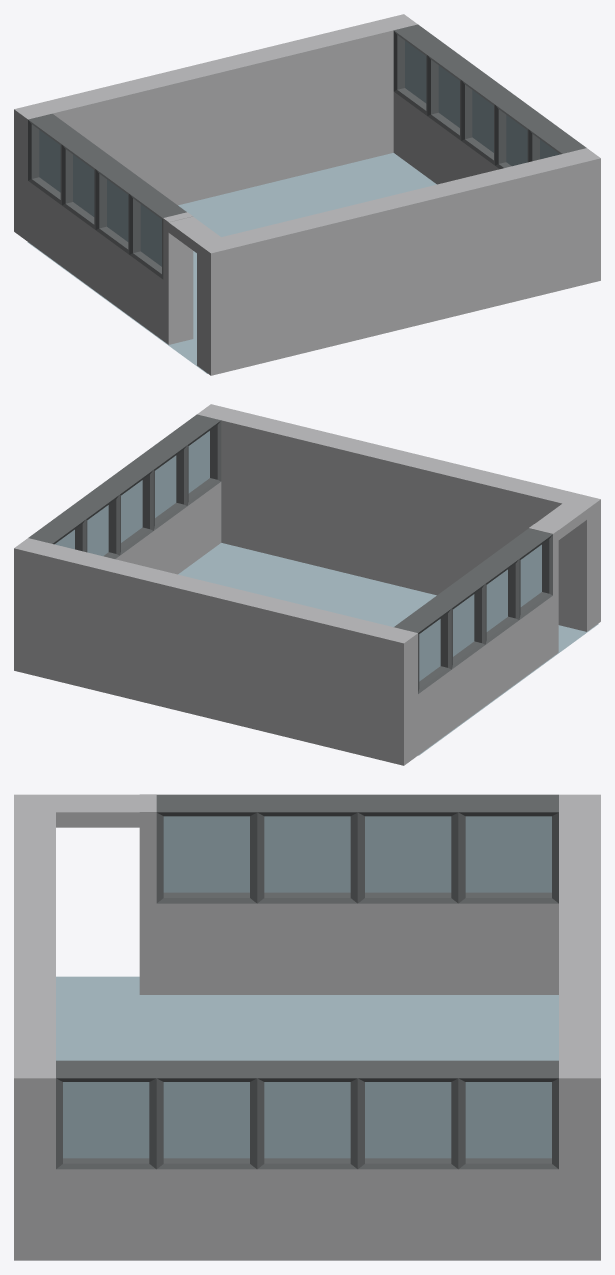
The model's file is Classroom 1.fbx.
3 views of the same model, one above another, from view 1: azimuth 30°, elevation 25°; view 2: azimuth 150°, elevation 25°; view 3: azimuth 270°, elevation 25° (orthographic). The views are drawn at different scales.
Parts seen in each view (by area): view 1: pCube26; view 2: pCube26; view 3: pCube26.
Boxes of the visible parts, x1,y1,x2,y2 form: pCube26: [14, 14, 600, 375]; pCube26: [14, 404, 600, 765]; pCube26: [14, 794, 600, 1260].
Bounding box in the file's own units: 802 × 241 × 700.
